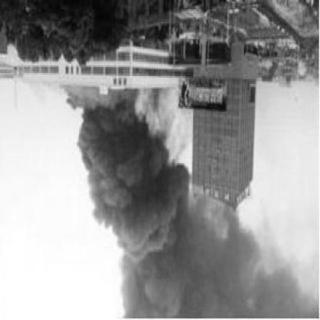Smoke: (63, 93, 240, 317)
